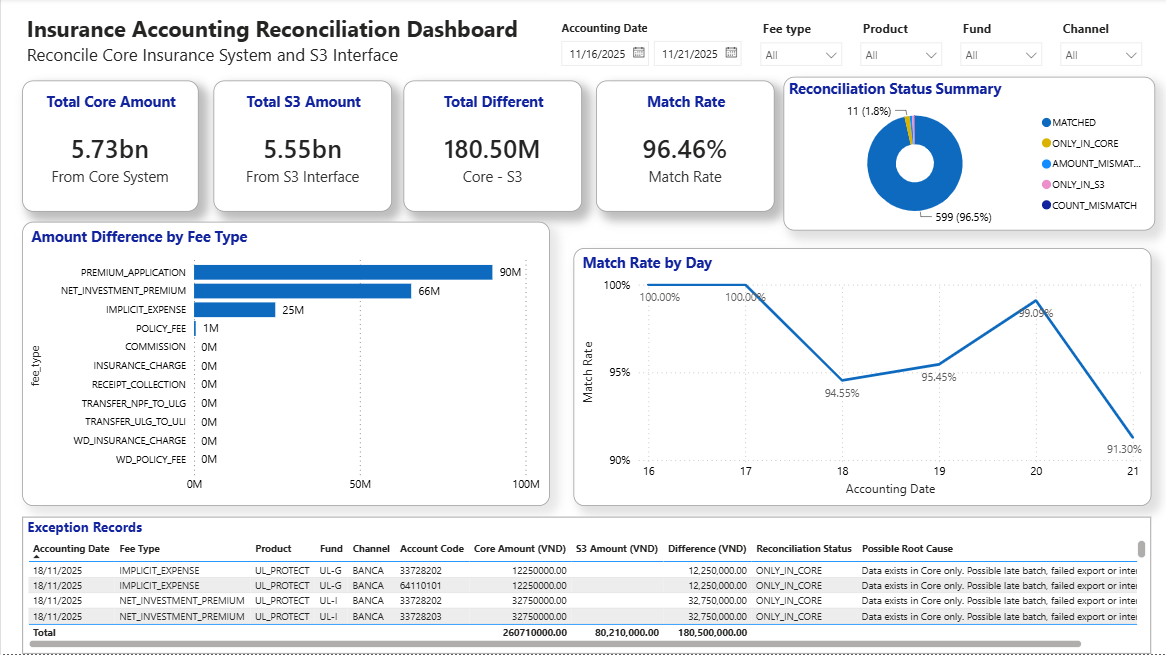

The page's visual inventory and layout, read from the dashboard file:
{"tool":"powerbi","page":{"name":"Overview","canvas":[1280,720],"ordinal":0},"visuals":[{"type":"cardVisual","title":"Total Core Amount","fields":{"Data":["Sum(vw_reconciliation_result.core_amount)"]},"box":[23.3,91,193.5,144.1],"z":0},{"type":"cardVisual","title":"Total S3 Amount","fields":{"Data":["Sum(vw_reconciliation_result.s3_amount)"]},"box":[233.3,91,196.2,144.1],"z":1000},{"type":"cardVisual","title":"Total Different","fields":{"Data":["Sum(vw_reconciliation_result.amount_difference)"]},"box":[441.9,91,196.2,144.1],"z":2000},{"type":"cardVisual","title":"Match Rate","fields":{"Data":["vw_reconciliation_result.Match Rate"]},"box":[653.2,91,196.2,144.1],"z":3000},{"type":"slicer","fields":{"Values":["vw_reconciliation_result.accounting_date"]},"box":[602.8,19.2,216.8,64.5],"z":4000},{"type":"slicer","fields":{"Values":["vw_reconciliation_result.fee_type"]},"box":[823.7,19.2,109.8,64.5],"z":5000},{"type":"slicer","fields":{"Values":["vw_reconciliation_result.product_code"]},"box":[933.5,19.2,109.8,64.5],"z":6000},{"type":"slicer","fields":{"Values":["vw_reconciliation_result.fund_code"]},"box":[1043.3,19.2,109.8,64.5],"z":7000},{"type":"slicer","fields":{"Values":["vw_reconciliation_result.channel_code"]},"box":[1153,19.2,109.8,64.5],"z":8000},{"type":"textbox","box":[23.3,11.7,564.3,71.5],"z":9000},{"type":"donutChart","title":"Reconciliation Status Summary","fields":{"Category":["vw_reconciliation_result.reconciliation_status"],"Y":["CountNonNull(vw_reconciliation_result.reconciliation_status)"]},"box":[858.9,86,408.3,169.2],"z":10000},{"type":"clusteredBarChart","title":"Amount Difference by Fee Type","fields":{"Category":["vw_reconciliation_result.fee_type"],"Y":["Sum(vw_reconciliation_result.amount_difference)"]},"box":[23.3,245,578.9,312.1],"z":11000},{"type":"lineChart","fields":{"Category":["vw_reconciliation_result.accounting_date.Variation.Date Hierarchy.Year","vw_reconciliation_result.accounting_date.Variation.Date Hierarchy.Quarter","vw_reconciliation_result.accounting_date.Variation.Date Hierarchy.Month","vw_reconciliation_result.accounting_date.Variation.Date Hierarchy.Day"],"Y":["vw_reconciliation_result.Match Rate"]},"box":[628.5,274.1,634.3,282.9],"z":11001},{"type":"tableEx","title":"Exception Records","fields":{"Values":["vw_reconciliation_result.accounting_date","vw_reconciliation_result.fee_type","vw_reconciliation_result.product_code","vw_reconciliation_result.fund_code","vw_reconciliation_result.channel_code","vw_reconciliation_result.account_code","Sum(vw_reconciliation_result.core_amount)","Sum(vw_reconciliation_result.s3_amount)","Sum(vw_reconciliation_result.amount_difference)","vw_reconciliation_result.reconciliation_status","vw_reconciliation_result.possible_root_cause"]},"box":[23.3,570.2,1239.5,150.2],"z":11002}]}

Visuals, with their boxes in screenshot pixels (x1, y1, x2, y2), scaled from the page's 1280x720 canvas onto the 1166x655 screenshot:
"Total Core Amount" cardVisual: 21, 83, 197, 214
"Total S3 Amount" cardVisual: 213, 83, 391, 214
"Total Different" cardVisual: 403, 83, 581, 214
"Match Rate" cardVisual: 595, 83, 774, 214
slicer - vw_reconciliation_result.accounting_date: 549, 17, 747, 76
slicer - vw_reconciliation_result.fee_type: 750, 17, 850, 76
slicer - vw_reconciliation_result.product_code: 850, 17, 950, 76
slicer - vw_reconciliation_result.fund_code: 950, 17, 1050, 76
slicer - vw_reconciliation_result.channel_code: 1050, 17, 1150, 76
textbox: 21, 11, 535, 76
"Reconciliation Status Summary" donutChart: 782, 78, 1154, 232
"Amount Difference by Fee Type" clusteredBarChart: 21, 223, 549, 507
lineChart - vw_reconciliation_result.accounting_date.Variation.Date Hierarchy.Year x vw_reconciliation_result.accounting_date.Variation.Date Hierarchy.Quarter: 573, 249, 1150, 507
"Exception Records" tableEx: 21, 519, 1150, 654
